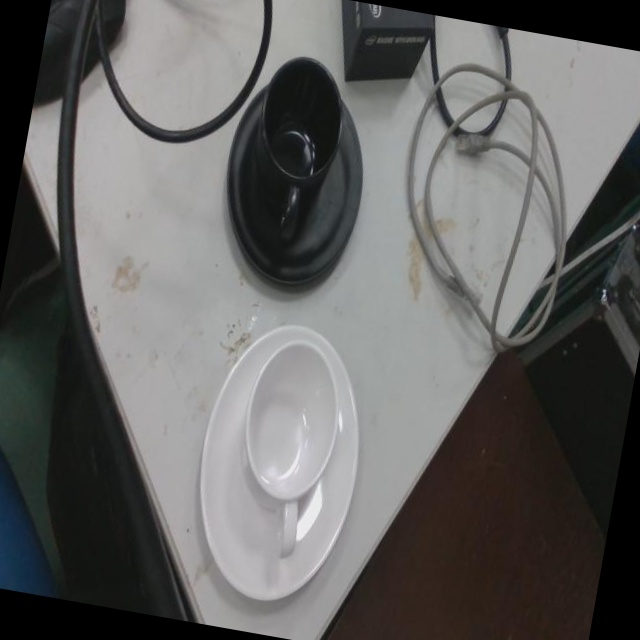black: (226, 50, 367, 292)
white: (199, 319, 361, 607)
